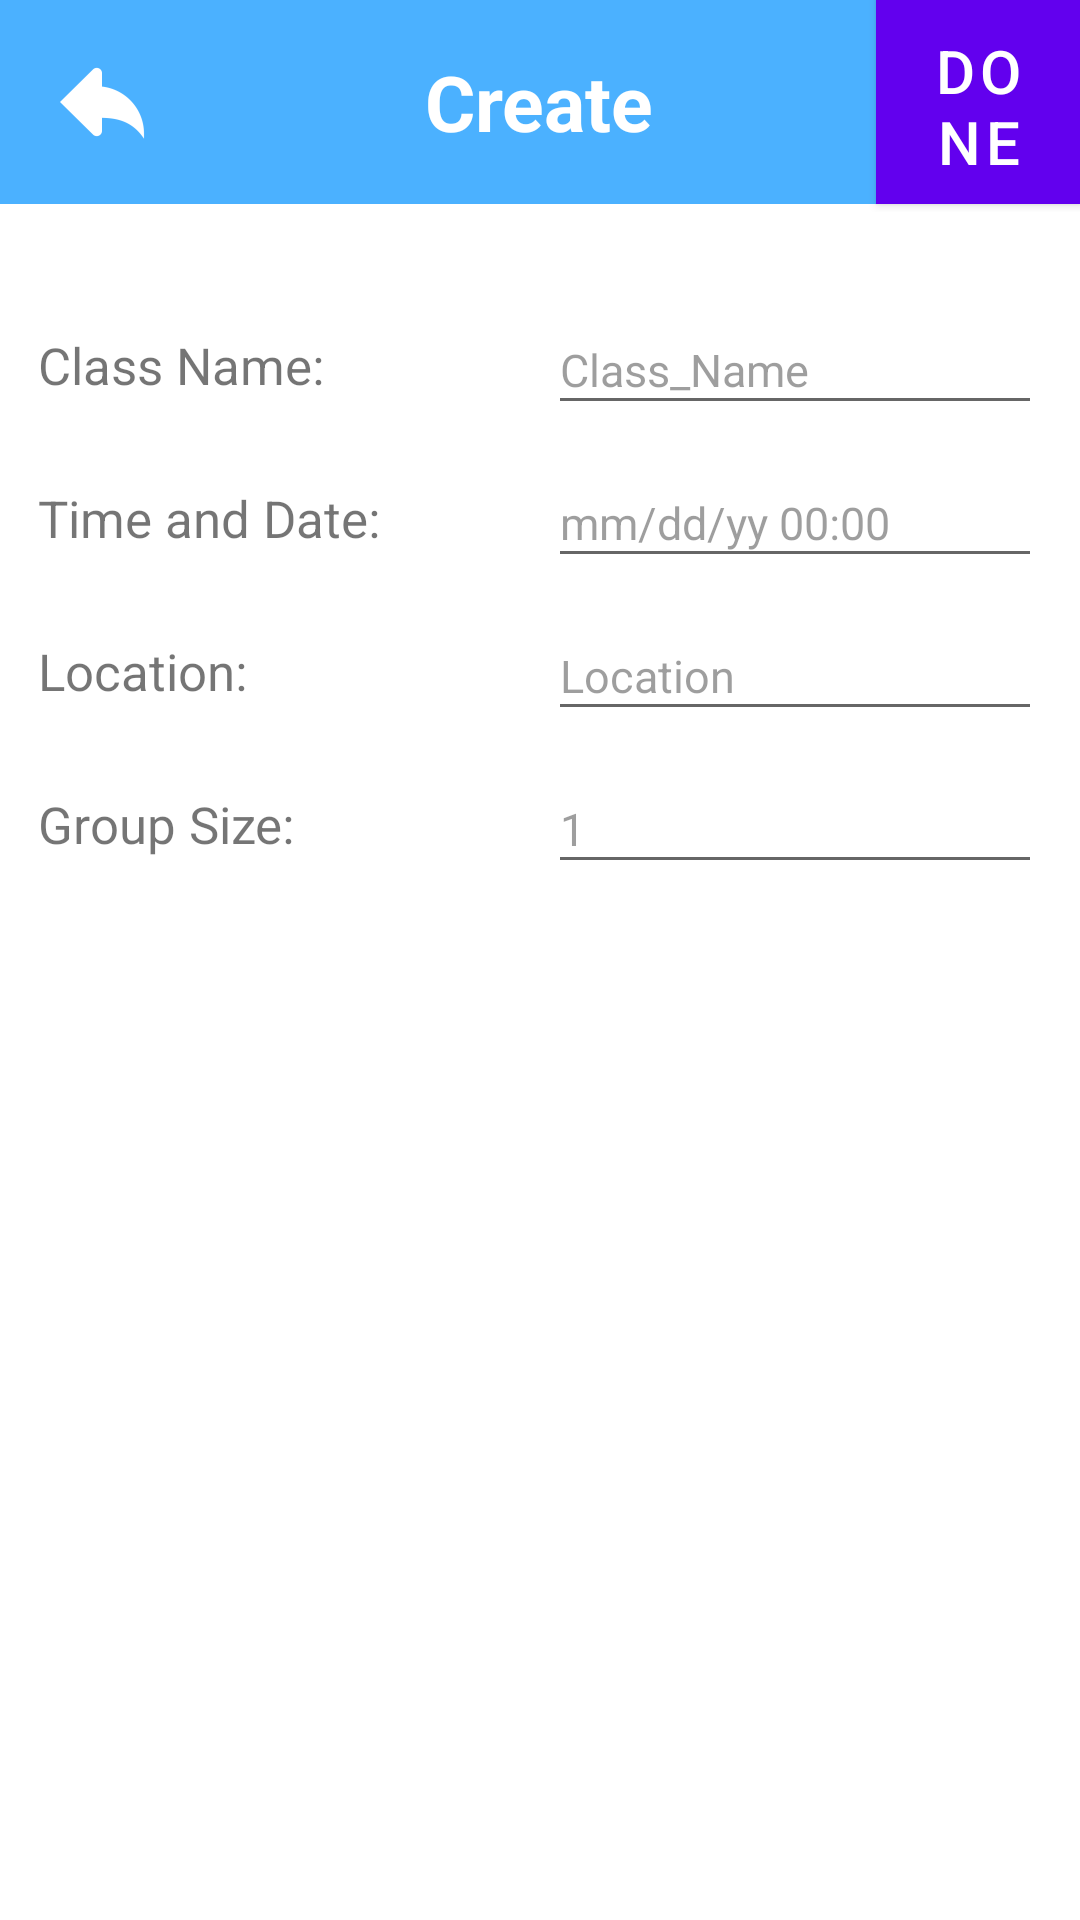

Where icons sit on this 1080w x 1920h app screen, as box(x1, y1, x2, y2):
back: box(60, 68, 144, 139)
